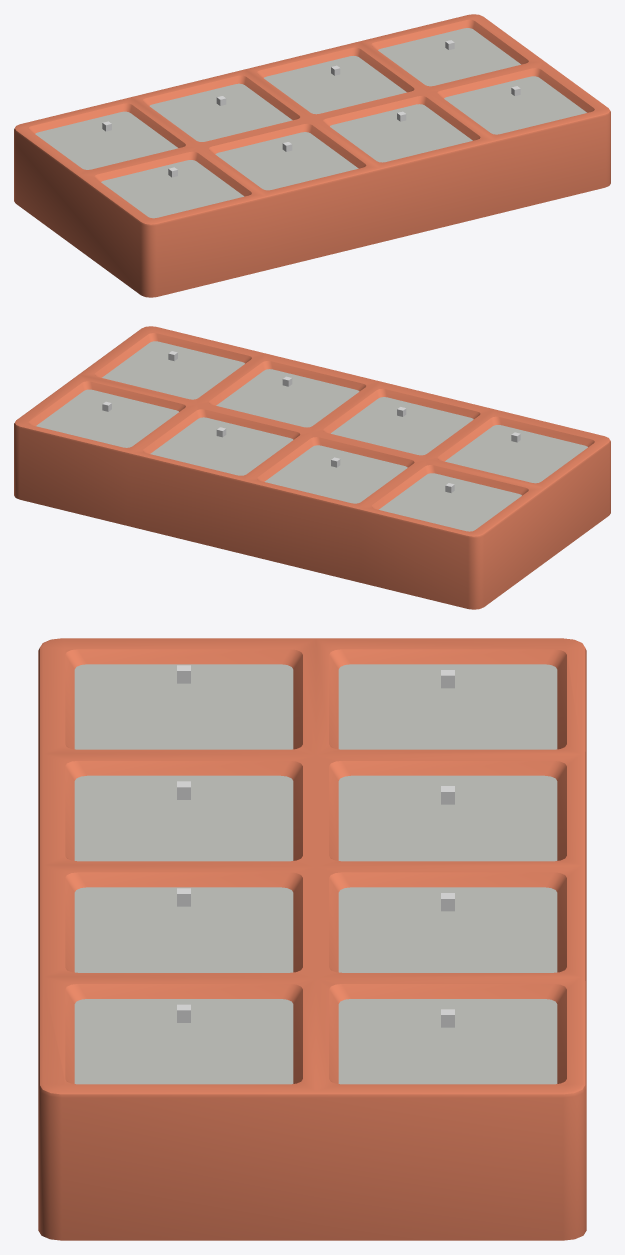
3 renders of one model, top to bottom at view 1: azimuth 30°, elevation 25°; view 2: azimuth 150°, elevation 25°; view 3: azimuth 270°, elevation 25°, orthographic. The views are drawn at different scales.
Parts seen in each view (by area): view 1: grid_2x4; view 2: grid_2x4; view 3: grid_2x4.
Boxes of the visible parts, <box> form: grid_2x4: <box>14,14,610,297</box>; grid_2x4: <box>14,326,610,609</box>; grid_2x4: <box>38,638,586,1240</box>.
Size of the model in its own units: 15.63 by 2.81 by 7.92.
